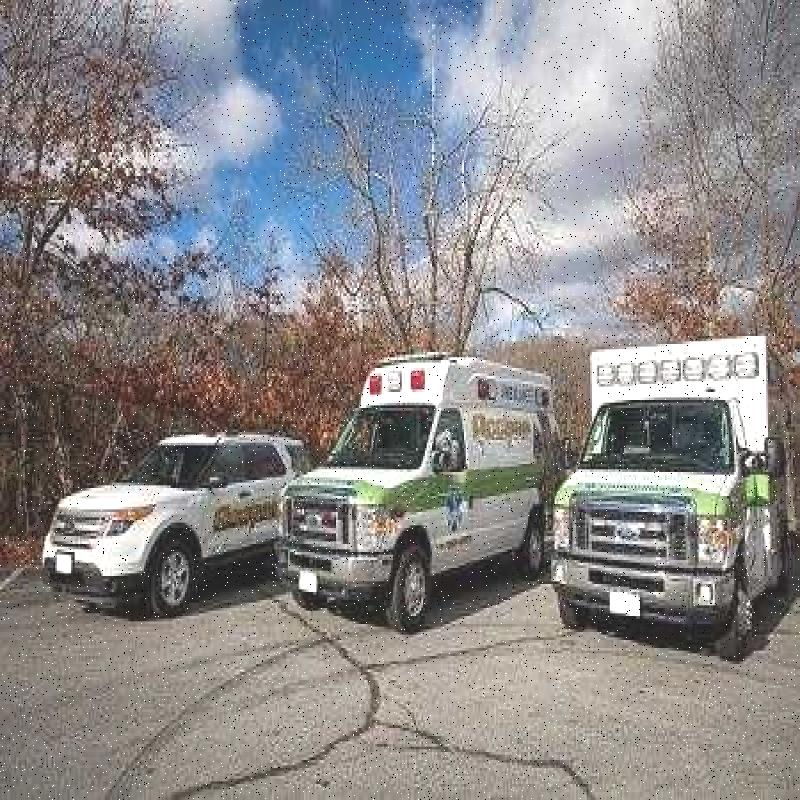AmbulanceSiren: (368, 363, 432, 397)
